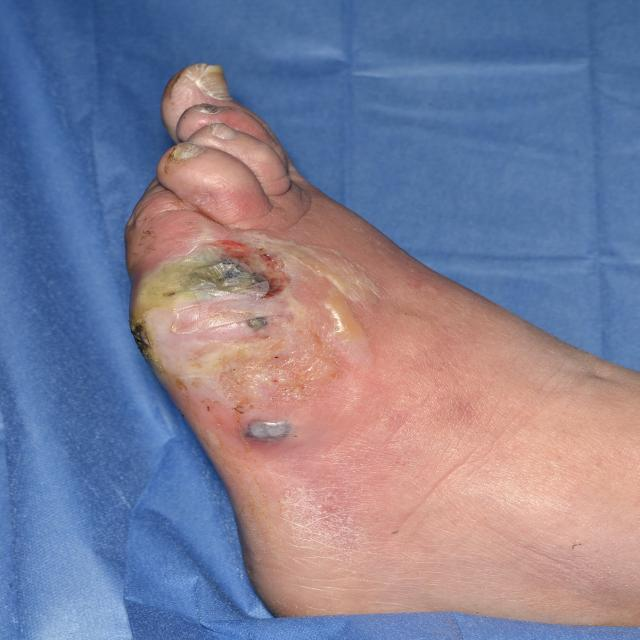wound: (112, 237, 304, 445)
